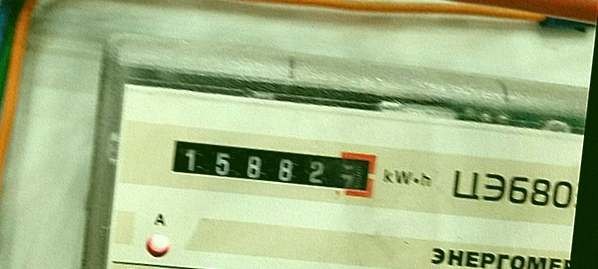1: (182, 146, 199, 172)
2: (307, 157, 326, 185)
5: (213, 149, 231, 176)
7: (338, 170, 354, 188)
8: (275, 154, 294, 181), (244, 153, 263, 178)
screen: (156, 123, 388, 208)
